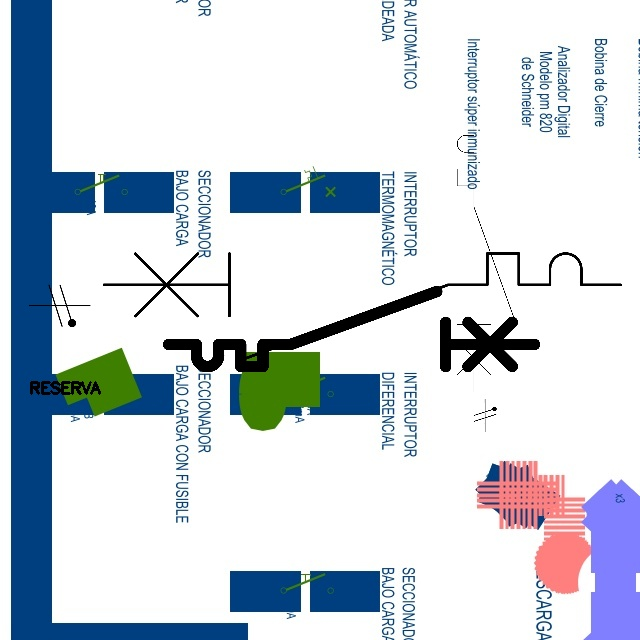interruptor_termomagnetico: (90, 240, 633, 373), (159, 282, 544, 376), (450, 107, 521, 399)
